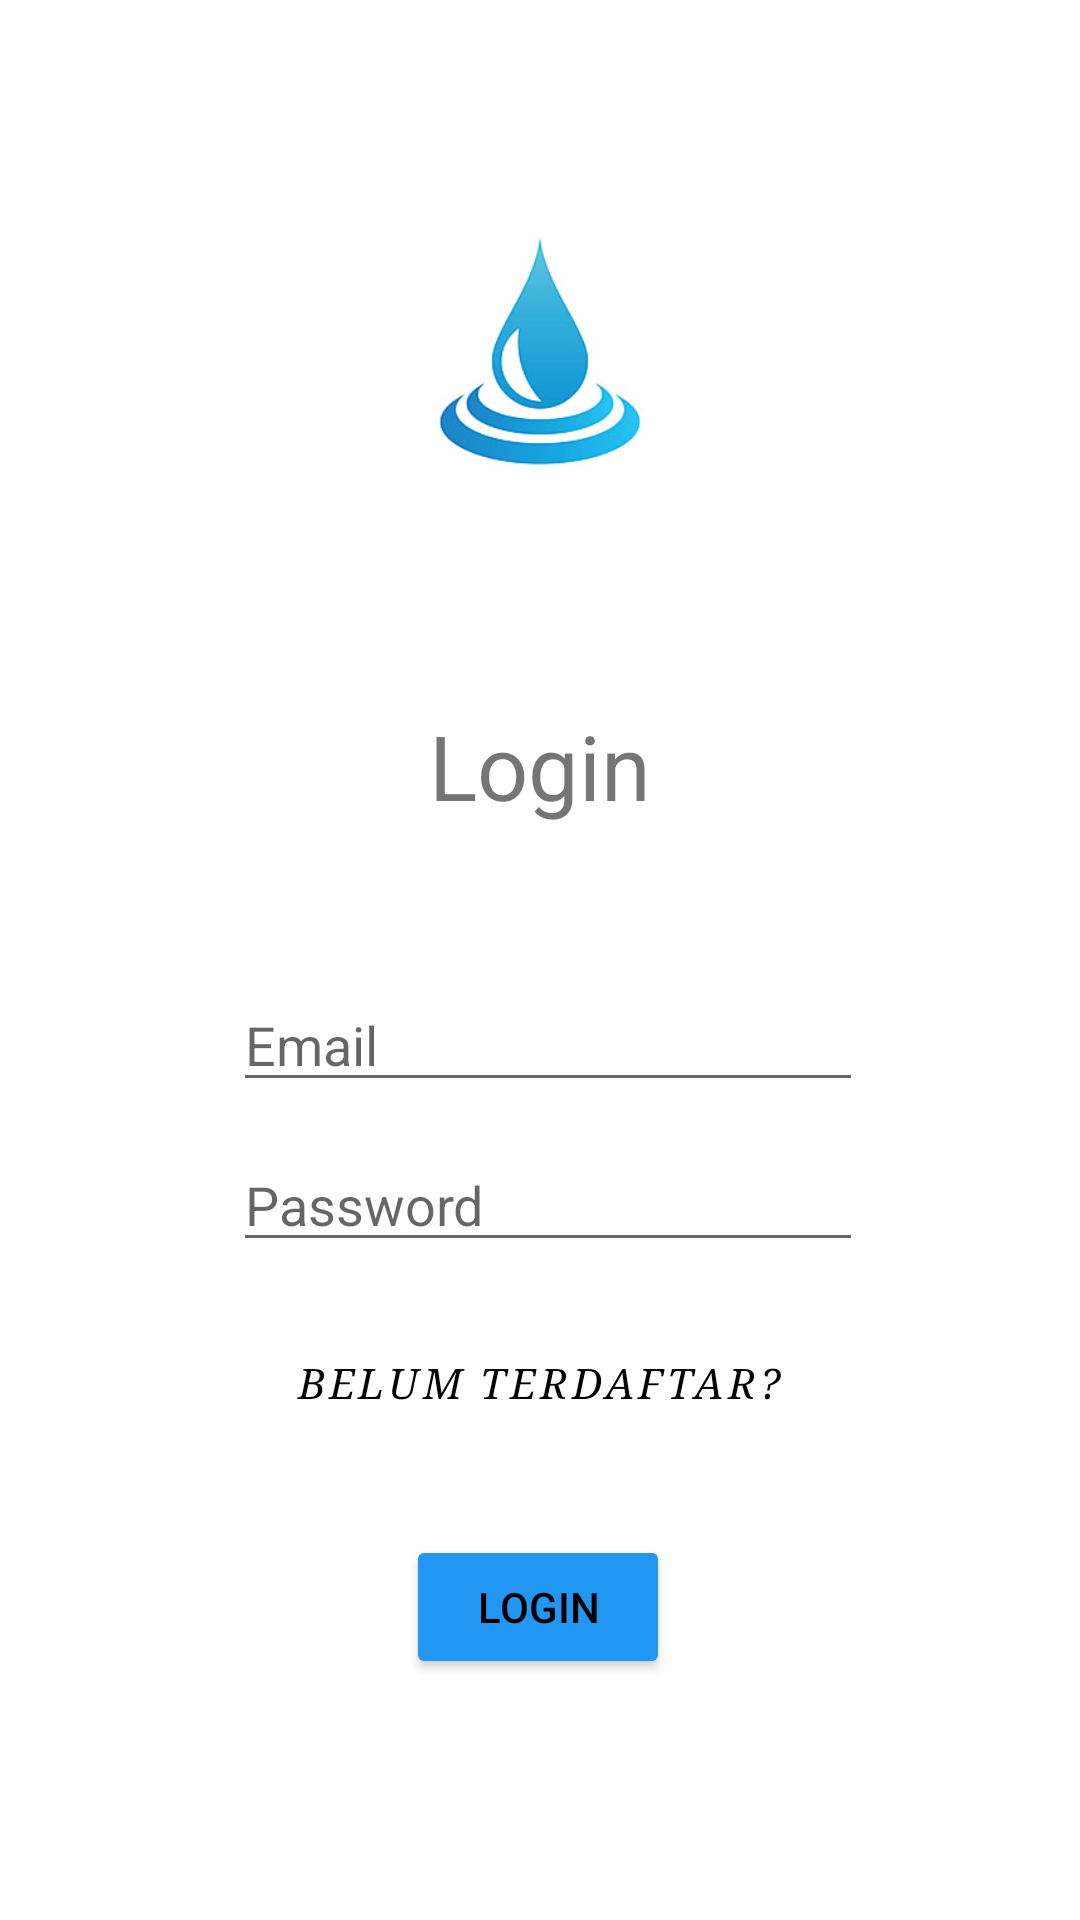

Icons on this 1080 x 1920 Android screen, each with its box as [left=x1, top=y1, right=x2, bottom=y2]:
airzamzam: [left=440, top=238, right=641, bottom=465]
